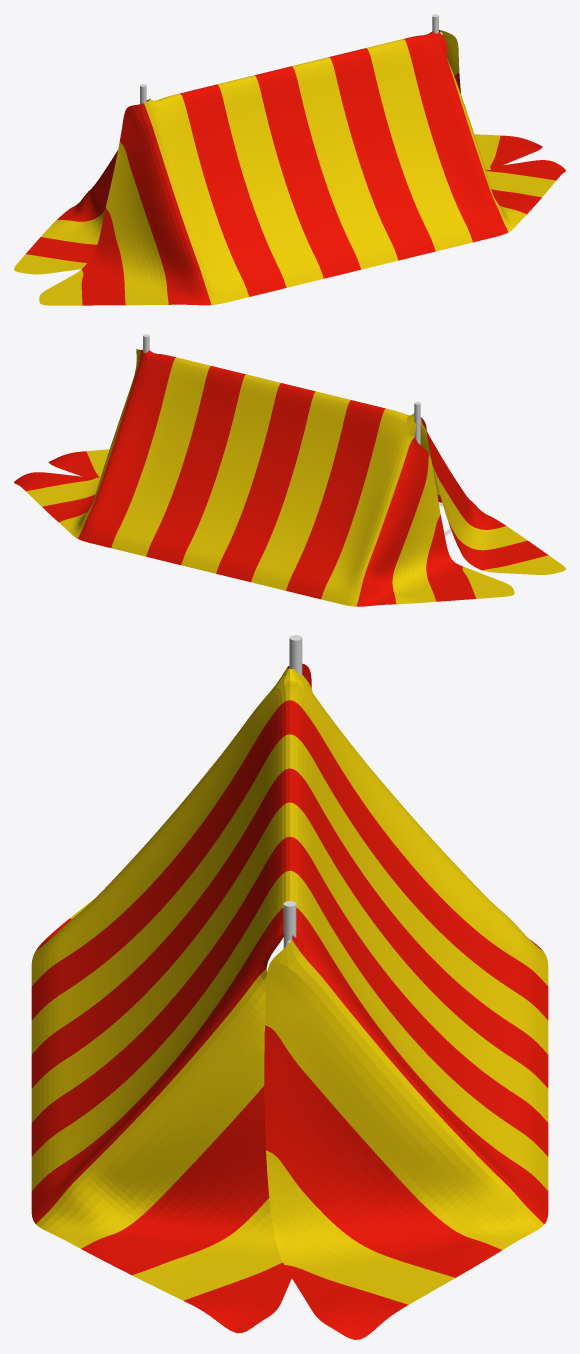
Rendered from Tent.fbx.
3 views of the same model, one above another, from view 1: azimuth 30°, elevation 25°; view 2: azimuth 150°, elevation 25°; view 3: azimuth 270°, elevation 25° (orthographic). The views are drawn at different scales.
Visible parts, largest first — view 1: Plane.009; view 2: Plane.009; view 3: Plane.009.
Part boxes in pixels (x1,y1,x2,y2): Plane.009: (14,30,565,305); Plane.009: (14,349,565,606); Plane.009: (31,663,548,1339).
Size of the model in its own units: 547 by 240 by 166.
